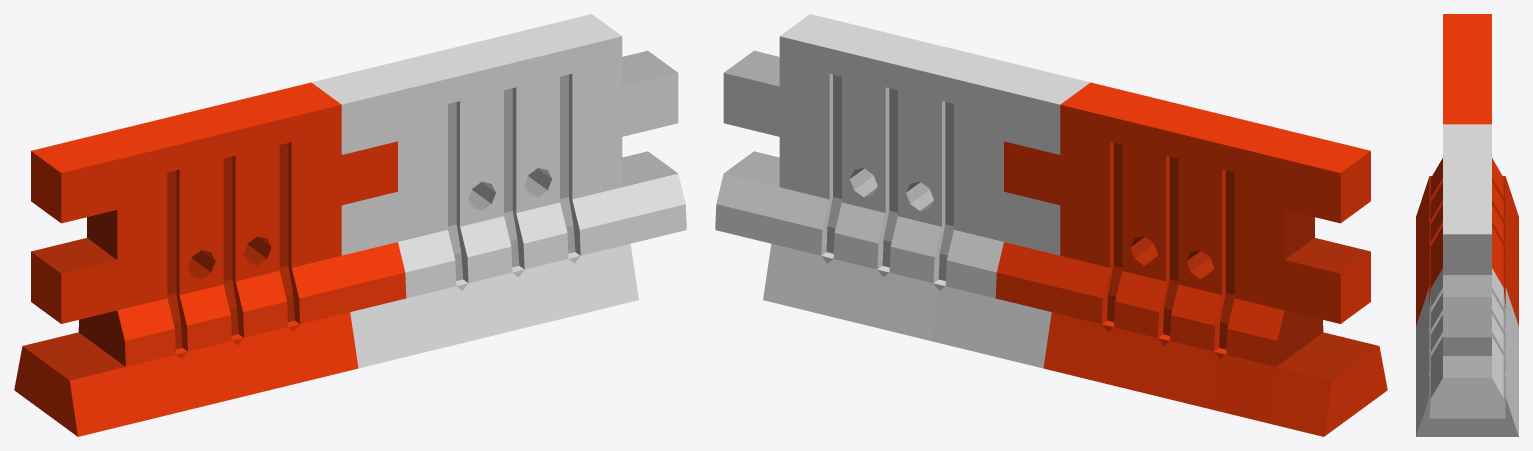
Rendered from FireWall 1.fbx.
3 renders of one model, left to right at view 1: azimuth 30°, elevation 25°; view 2: azimuth 150°, elevation 25°; view 3: azimuth 270°, elevation 25°, orthographic. The views are drawn at different scales.
Visible parts, largest first — view 1: Cube; view 2: Cube; view 3: Cube.
Part boxes in pixels (left/top/right/bottom): Cube: left=14, top=14, right=686, bottom=436; Cube: left=715, top=14, right=1387, bottom=436; Cube: left=1416, top=14, right=1518, bottom=436.
Bounding box in the file's own units: 257 × 100 × 45.99.
